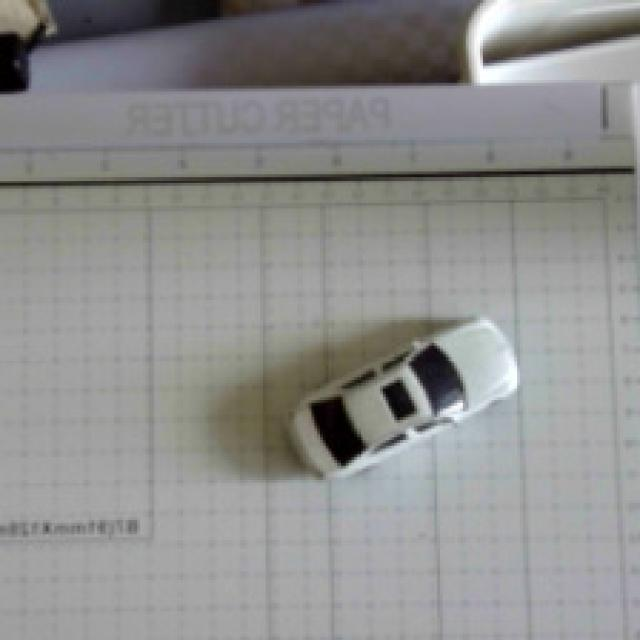Grey Car: (258, 278, 569, 518)
